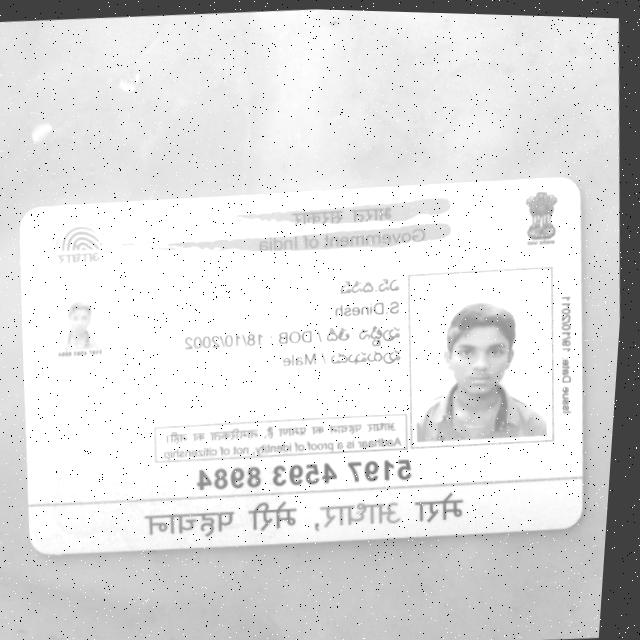card: (21, 179, 582, 554)
